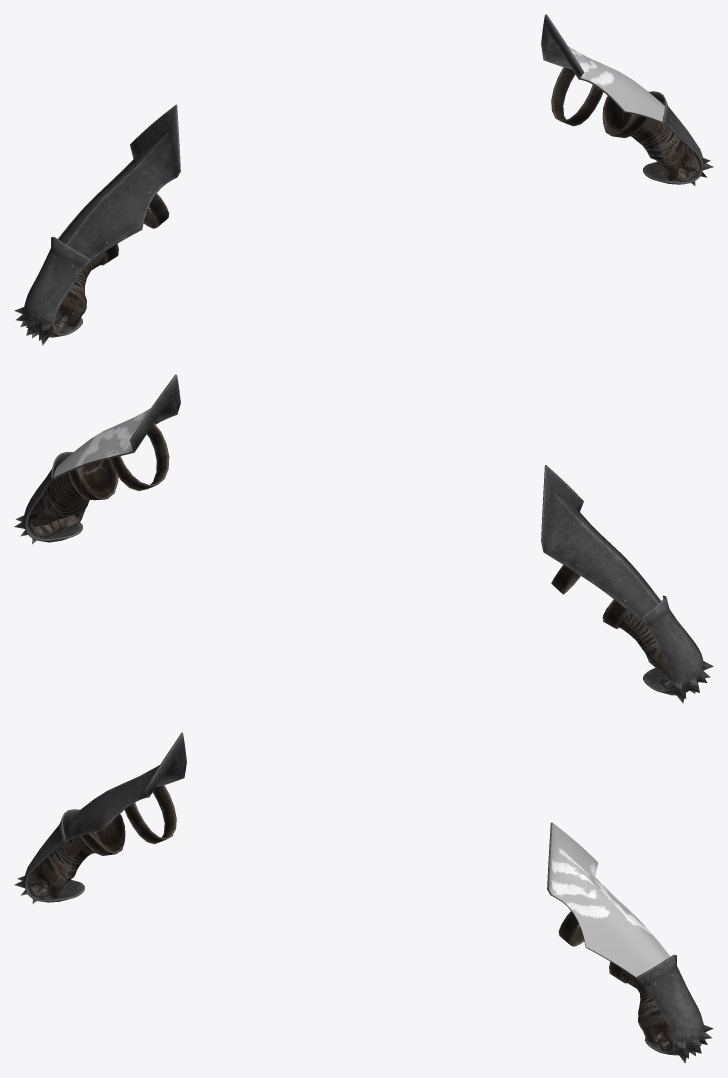
Rendered from sk_uruk_hai_bracer_elite_br2.fbx.
3 views of the same model, one above another, from view 1: azimuth 30°, elevation 25°; view 2: azimuth 150°, elevation 25°; view 3: azimuth 330°, elevation 25° (orthographic).
Visible parts, largest first — view 1: sk_uruk_hai_bracer_elite_br2.0, sk_uruk_hai_bracer_elite_br2.1, sk_uruk_hai_bracer_elite_br2.2; view 2: sk_uruk_hai_bracer_elite_br2.0, sk_uruk_hai_bracer_elite_br2.1, sk_uruk_hai_bracer_elite_br2.2; view 3: sk_uruk_hai_bracer_elite_br2.0, sk_uruk_hai_bracer_elite_br2.2, sk_uruk_hai_bracer_elite_br2.1.
Part boxes in pixels (<box>): sk_uruk_hai_bracer_elite_br2.0: <box>14,14,713,345</box>; sk_uruk_hai_bracer_elite_br2.1: <box>54,67,700,333</box>; sk_uruk_hai_bracer_elite_br2.2: <box>546,14,664,122</box>; sk_uruk_hai_bracer_elite_br2.0: <box>14,374,713,703</box>; sk_uruk_hai_bracer_elite_br2.1: <box>28,423,670,689</box>; sk_uruk_hai_bracer_elite_br2.2: <box>53,375,174,477</box>; sk_uruk_hai_bracer_elite_br2.0: <box>14,732,713,1063</box>; sk_uruk_hai_bracer_elite_br2.2: <box>549,823,670,976</box>; sk_uruk_hai_bracer_elite_br2.1: <box>27,785,673,1054</box>.
Bounding box in the file's own units: 1.52 × 0.1829 × 0.43.
3 materials, 3 textured.
